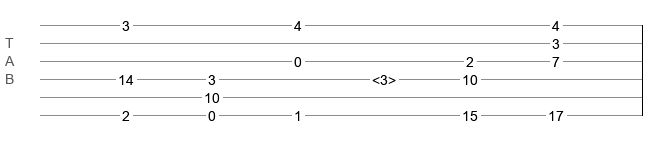0: (208, 108, 216, 118), (294, 54, 302, 64)
1: (294, 108, 302, 118)
10: (204, 90, 220, 100), (462, 72, 478, 82)
14: (118, 72, 134, 82)
15: (462, 108, 478, 118)
17: (548, 108, 564, 118)
2: (122, 108, 130, 118), (466, 54, 474, 64)
3: (122, 18, 130, 28), (208, 72, 216, 82), (552, 36, 560, 46)
4: (294, 18, 302, 28), (552, 18, 560, 28)
7: (552, 54, 560, 64)
harmonic: (372, 72, 396, 82)
